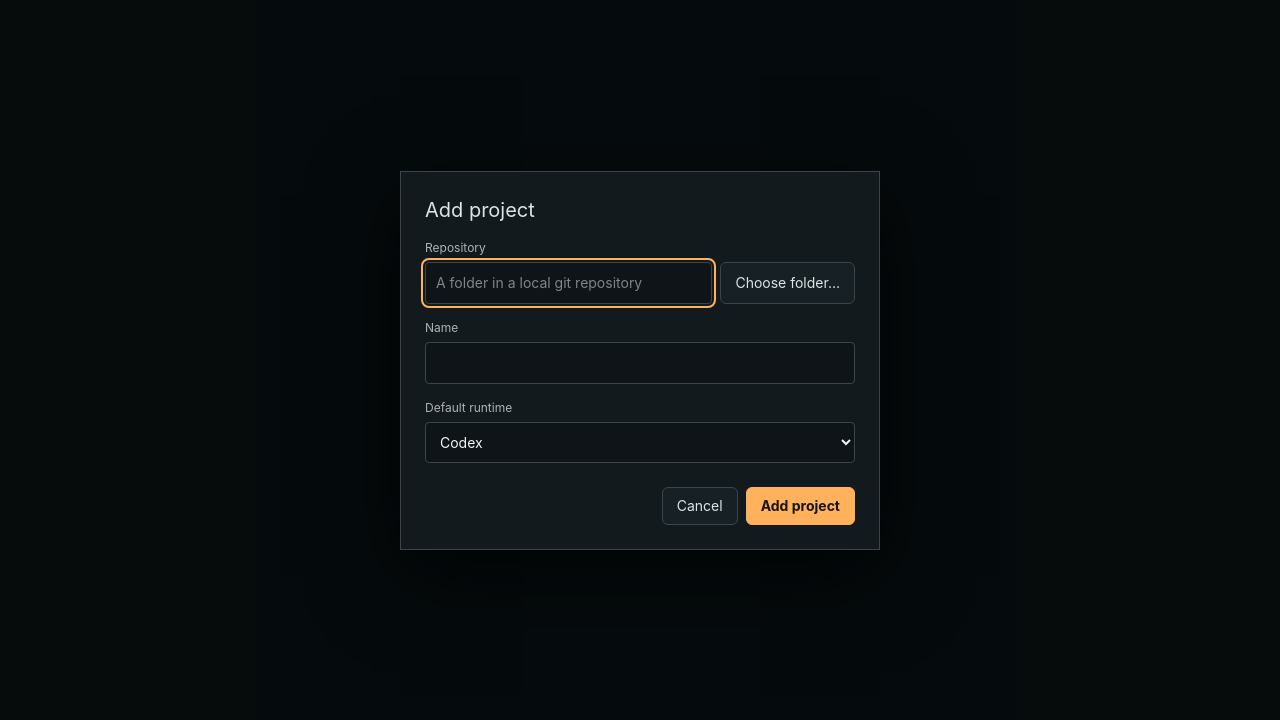
Scenario: AddProjectDialog › keeps a name typed while the inspection was pending
Type "/src/bakery" into the field named "Repository folder" at (569, 282), box [425, 262, 712, 304]
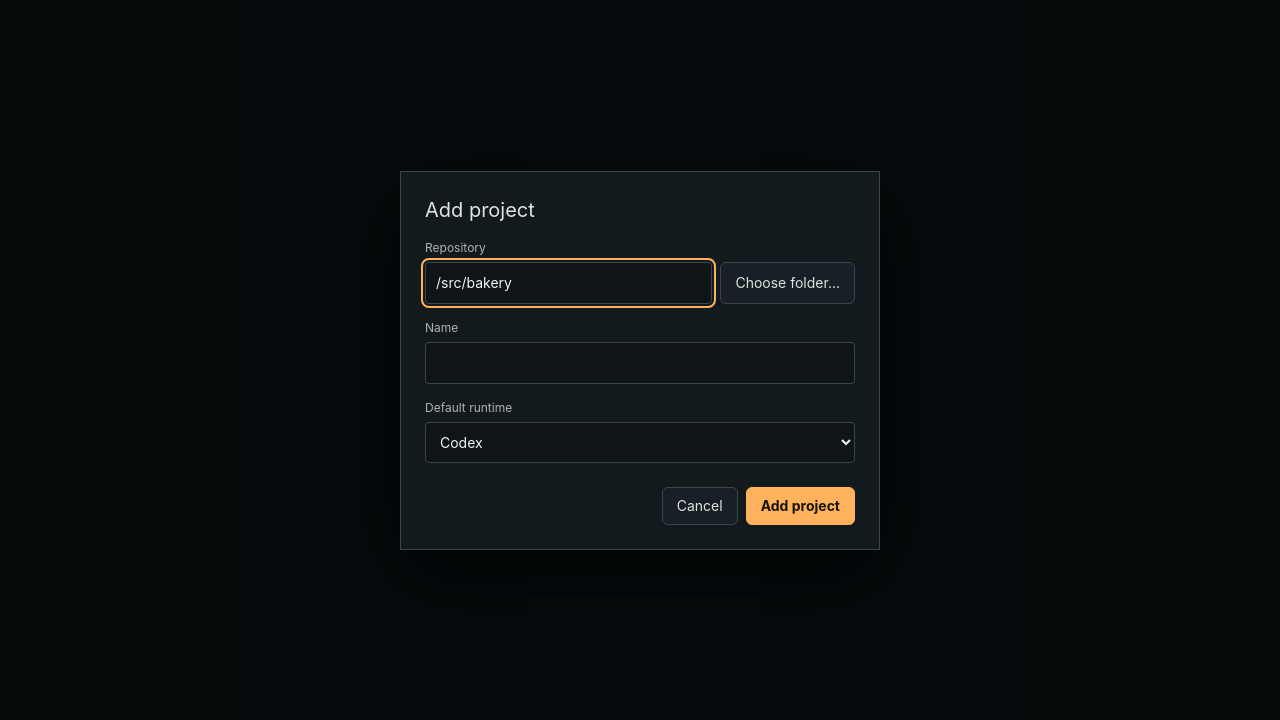
Type "Bakery app" into the field labelled "Name" at (640, 362), box [425, 342, 855, 384]
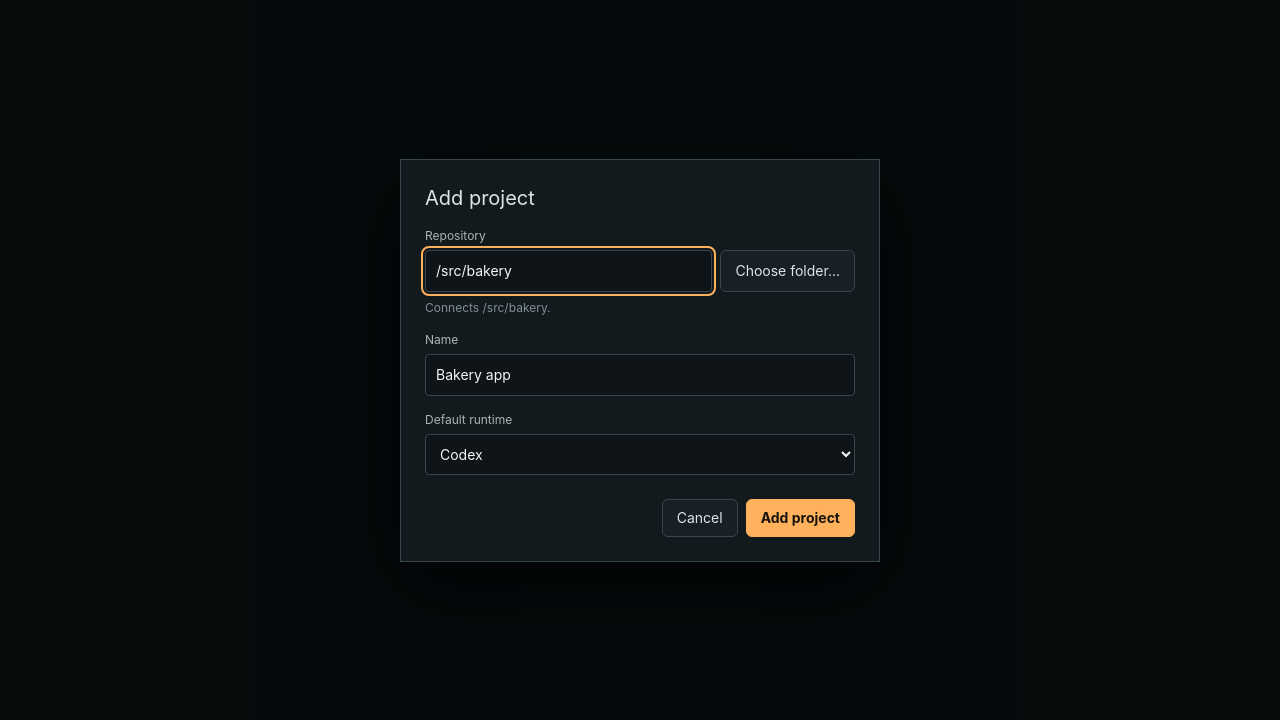
Result: the message reads "Connects /src/bakery." at [425, 300, 551, 314]
